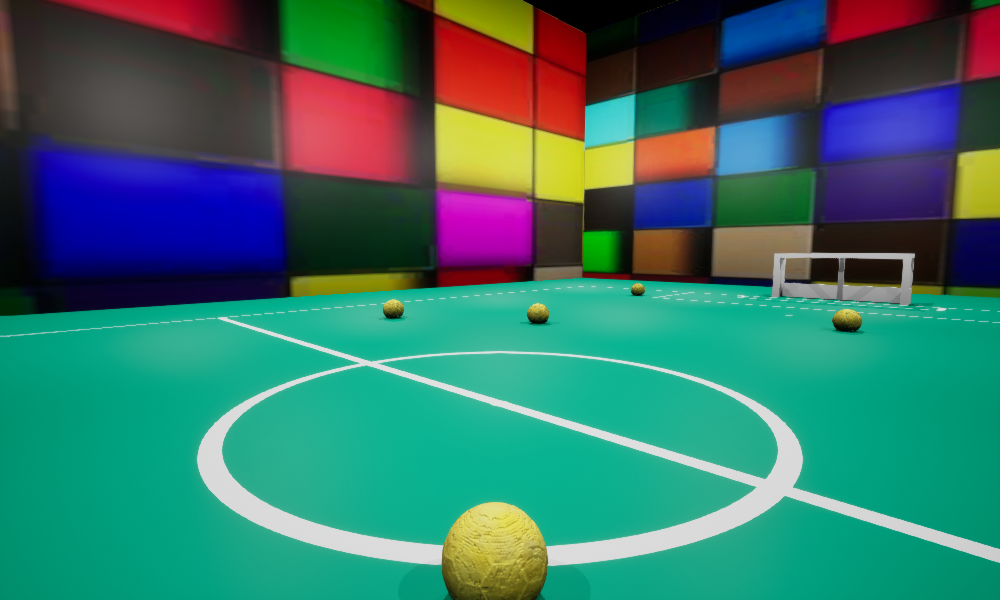b: (442, 502, 547, 599), (832, 309, 861, 331), (527, 303, 548, 323), (383, 299, 403, 318), (631, 283, 644, 295)
g: (772, 253, 914, 304)
